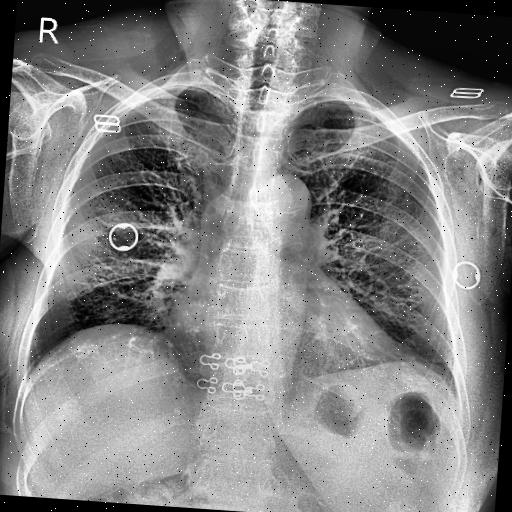0- Aortic enlargement: (252, 170, 316, 244), (252, 171, 312, 238), (263, 174, 313, 214)
3- Cardiomegaly: (164, 288, 408, 382), (161, 298, 411, 388), (160, 306, 412, 382)
